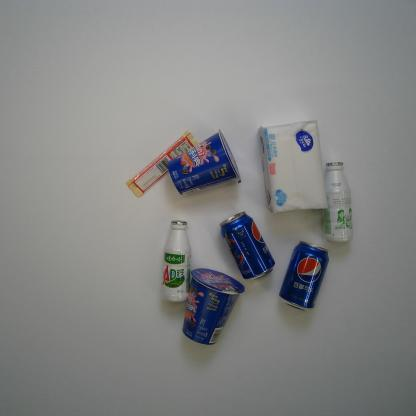Chocolate: (124, 130, 200, 198)
Dessert: (167, 129, 242, 196), (182, 268, 246, 346)
Drink: (219, 210, 276, 281), (278, 240, 330, 311)
Milk: (321, 161, 354, 243), (161, 219, 192, 303)
Tissue: (257, 119, 329, 214)
